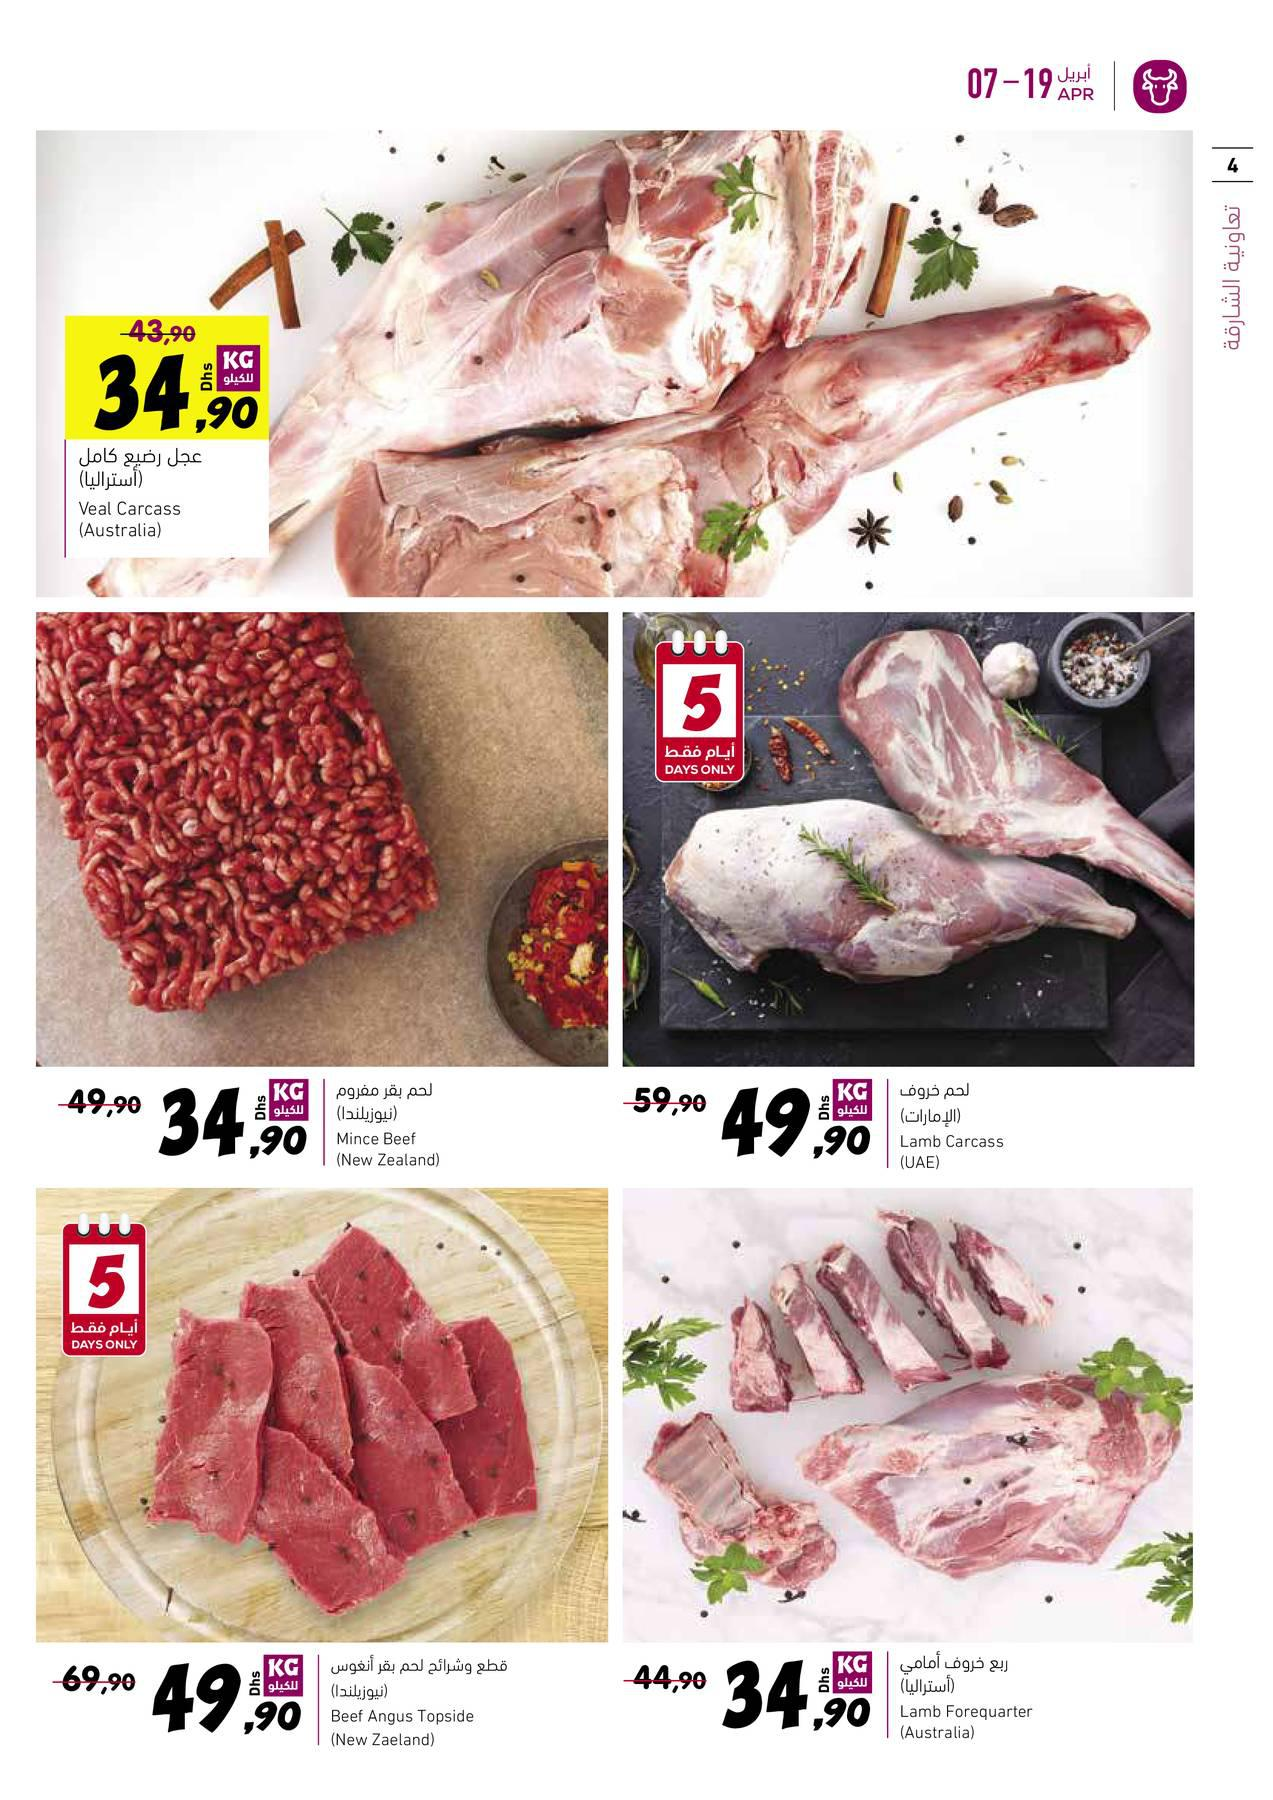text: (321, 1649, 515, 1756), (891, 1649, 1042, 1750), (73, 439, 209, 545), (329, 1076, 460, 1178), (891, 1078, 1015, 1178)
